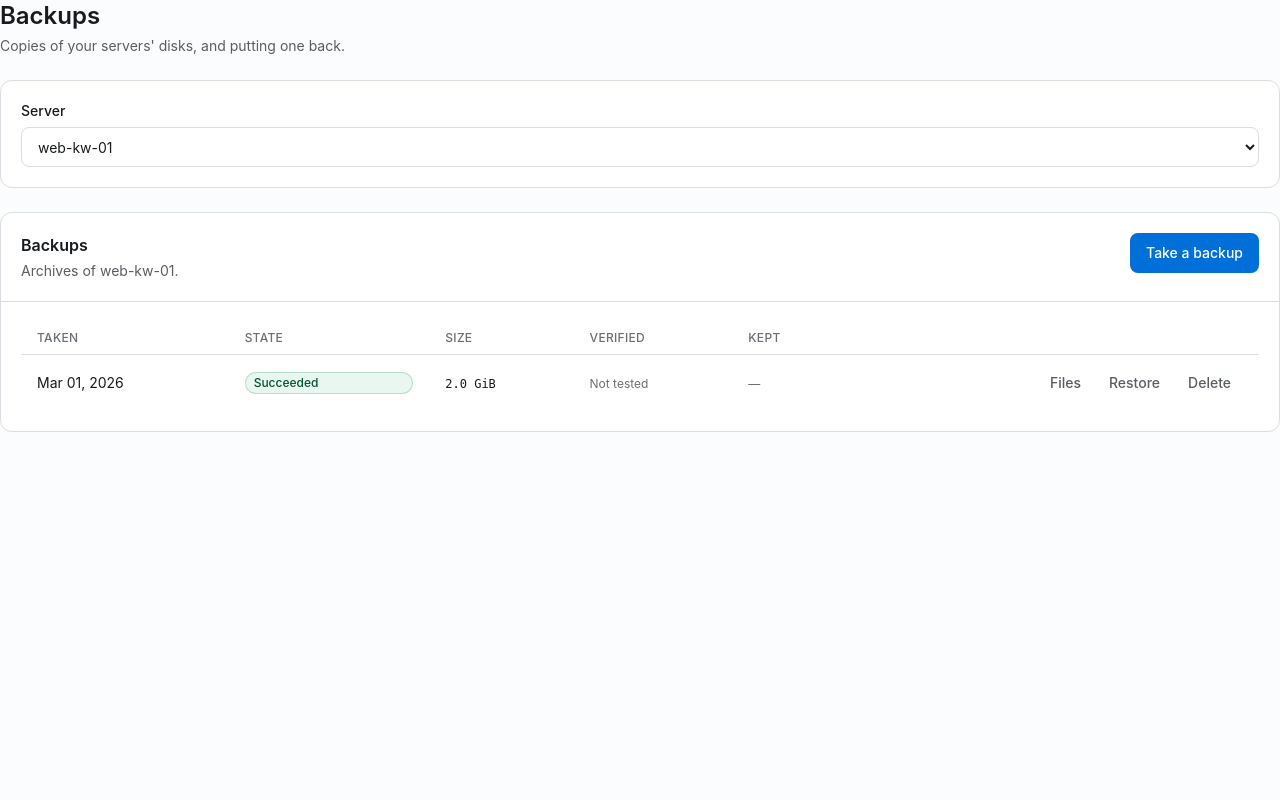
Test case: backups page › says plainly what a restore destroys
Click the button "Restore" at (1135, 383), box [1097,367,1172,399]
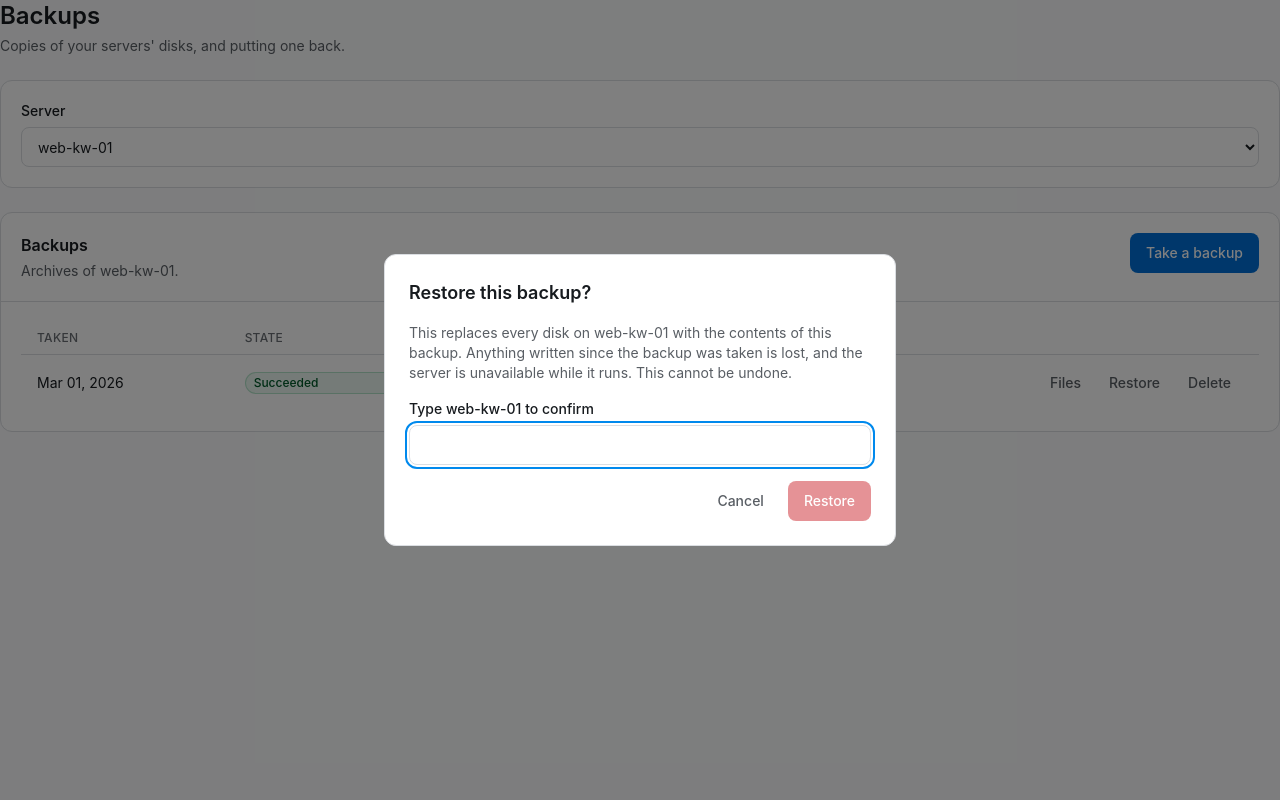
Expected: the text "cannot be undone" is shown, [409,324,863,381]
